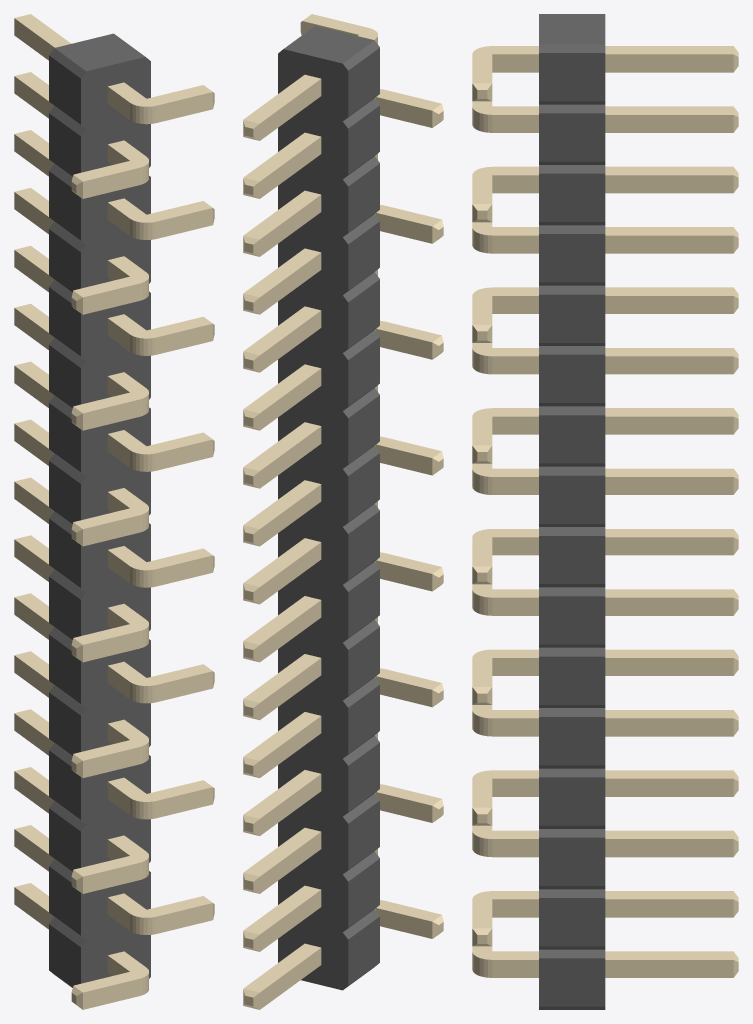
File: PinHeader_1x16_P1.00mm_Vertical_SMD_Pin1Left.glb
The picture shows the model from 3 angles, left to right: view 1: azimuth 30°, elevation 25°; view 2: azimuth 150°, elevation 25°; view 3: azimuth 270°, elevation 25°; orthographic projection. The views are drawn at different scales.
Parts seen in each view (by area): view 1: Shape_IndexedFaceSet.003, Shape_IndexedFaceSet.001, Shape_IndexedFaceSet.007, Shape_IndexedFaceSet.031, Shape_IndexedFaceSet.055, Shape_IndexedFaceSet.079, Shape_IndexedFaceSet.091, Shape_IndexedFaceSet.019, Shape_IndexedFaceSet.043, Shape_IndexedFaceSet.067, Shape_IndexedFaceSet.013, Shape_IndexedFaceSet.037 (+63 smaller); view 2: Shape_IndexedFaceSet.004, Shape_IndexedFaceSet.001, Shape_IndexedFaceSet.007, Shape_IndexedFaceSet.031, Shape_IndexedFaceSet.043, Shape_IndexedFaceSet.073, Shape_IndexedFaceSet.085, Shape_IndexedFaceSet.013, Shape_IndexedFaceSet.019, Shape_IndexedFaceSet.025, Shape_IndexedFaceSet.037, Shape_IndexedFaceSet.049 (+55 smaller); view 3: Shape_IndexedFaceSet.010, Shape_IndexedFaceSet.058, Shape_IndexedFaceSet.076, Shape_IndexedFaceSet.094, Shape_IndexedFaceSet.002, Shape_IndexedFaceSet.016, Shape_IndexedFaceSet.022, Shape_IndexedFaceSet.028, Shape_IndexedFaceSet.034, Shape_IndexedFaceSet.040, Shape_IndexedFaceSet.046, Shape_IndexedFaceSet.064 (+77 smaller).
Boxes of the visible parts, x1,y1,x2,y2 form: Shape_IndexedFaceSet.003: (81,57,150,983); Shape_IndexedFaceSet.001: (55,33,145,71); Shape_IndexedFaceSet.007: (49,55,80,124); Shape_IndexedFaceSet.031: (49,287,80,356); Shape_IndexedFaceSet.055: (49,519,80,587); Shape_IndexedFaceSet.079: (49,750,80,819); Shape_IndexedFaceSet.091: (49,866,80,935); Shape_IndexedFaceSet.019: (49,171,80,240); Shape_IndexedFaceSet.043: (49,403,80,472); Shape_IndexedFaceSet.067: (49,635,80,703); Shape_IndexedFaceSet.013: (49,113,80,176); Shape_IndexedFaceSet.037: (49,345,80,408); Shape_IndexedFaceSet.004: (278,49,348,990); Shape_IndexedFaceSet.001: (284,26,374,63); Shape_IndexedFaceSet.007: (348,48,379,116); Shape_IndexedFaceSet.031: (348,279,379,348); Shape_IndexedFaceSet.043: (348,395,379,464); Shape_IndexedFaceSet.073: (348,685,379,753); Shape_IndexedFaceSet.085: (348,801,379,869); Shape_IndexedFaceSet.013: (348,105,379,174); Shape_IndexedFaceSet.019: (348,163,379,232); Shape_IndexedFaceSet.025: (348,221,379,290); Shape_IndexedFaceSet.037: (348,337,379,406); Shape_IndexedFaceSet.049: (348,453,379,522); Shape_IndexedFaceSet.010: (539,113,605,161); Shape_IndexedFaceSet.058: (539,596,605,644); Shape_IndexedFaceSet.076: (539,777,605,825); Shape_IndexedFaceSet.094: (539,958,605,1006); Shape_IndexedFaceSet.002: (539,53,605,101); Shape_IndexedFaceSet.016: (539,173,605,221); Shape_IndexedFaceSet.022: (539,234,605,282); Shape_IndexedFaceSet.028: (539,294,605,342); Shape_IndexedFaceSet.034: (539,354,605,402); Shape_IndexedFaceSet.040: (539,415,605,463); Shape_IndexedFaceSet.046: (539,475,605,523); Shape_IndexedFaceSet.064: (539,656,605,704).
Size of the model in its own units: 0.984 by 6.3 by 1.58.
